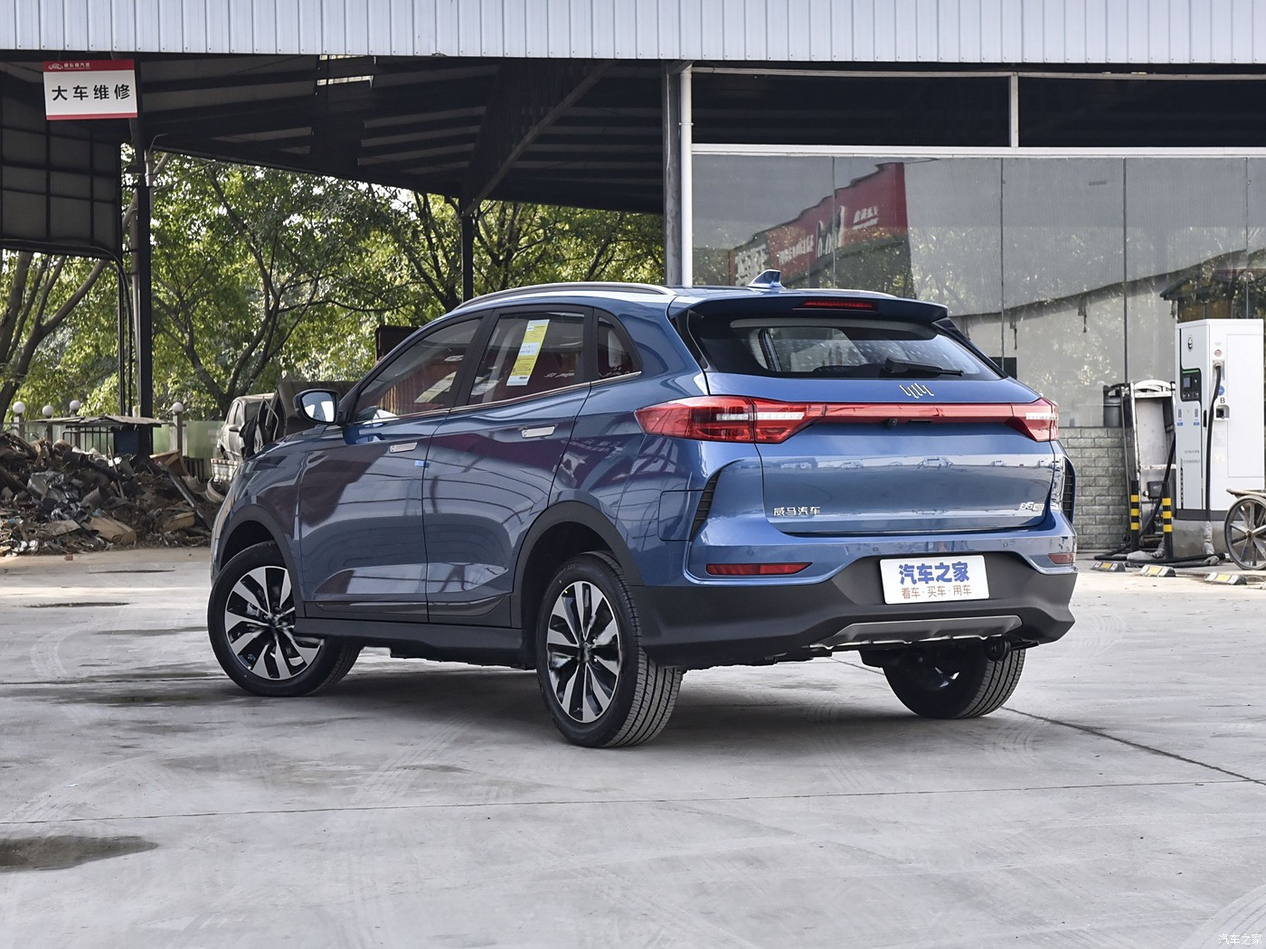WELTMEISTER: (901, 383, 934, 398)
